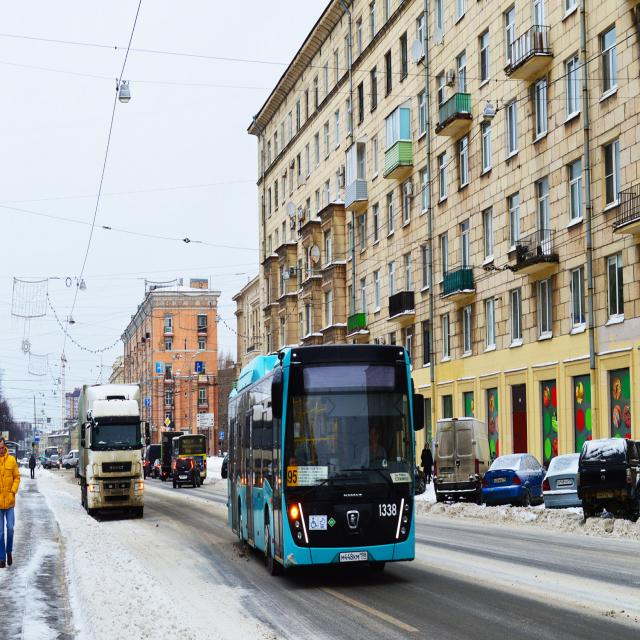number-of-bus: (289, 469, 298, 485)
